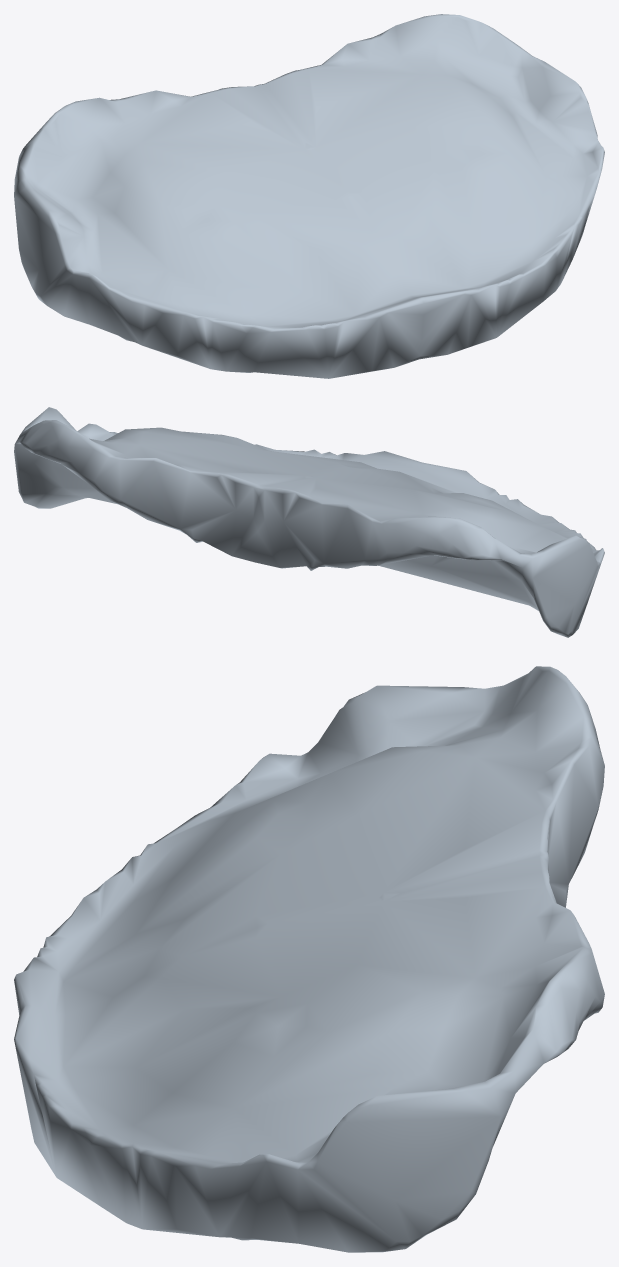
The model's file is intervertebral-disc-t1-t2.glb.
3 renders of one model, top to bottom at view 1: azimuth 30°, elevation 25°; view 2: azimuth 150°, elevation 25°; view 3: azimuth 270°, elevation 25°, orthographic. The views are drawn at different scales.
Parts seen in each view (by area): view 1: Intervertebral disc T1-T2; view 2: Intervertebral disc T1-T2; view 3: Intervertebral disc T1-T2.
Part boxes in pixels (box(x1,y1,x2,y2)): Intervertebral disc T1-T2: box(14, 14, 604, 378); Intervertebral disc T1-T2: box(14, 407, 604, 637); Intervertebral disc T1-T2: box(14, 666, 604, 1252).
Bounding box in the file's own units: 0.0336 × 0.0109 × 0.0201.
